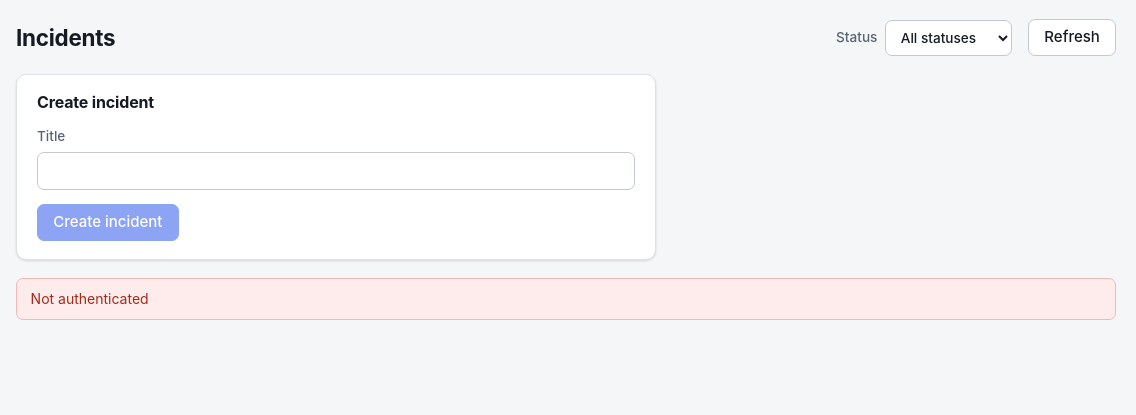
Test: Incidents › displays a list failure and retries on refresh
Check: the message reads "Not authenticated", box [31,290,149,307]
Click the button "Refresh" at [1072, 38], box [1028,19,1116,56]
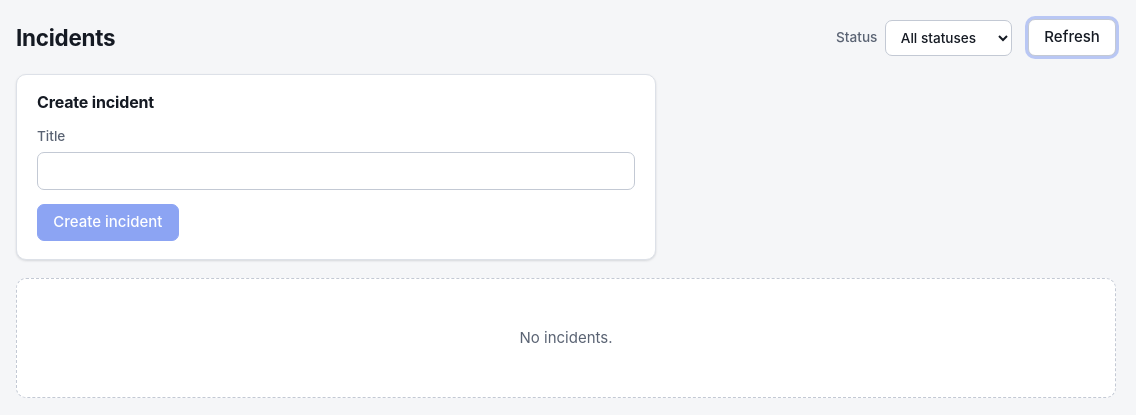
Check: the text "No incidents." is shown, box [16,278,1116,398]
